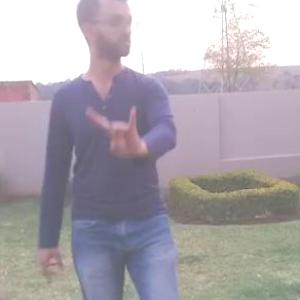takeoff-hand: (83, 94, 146, 168)
